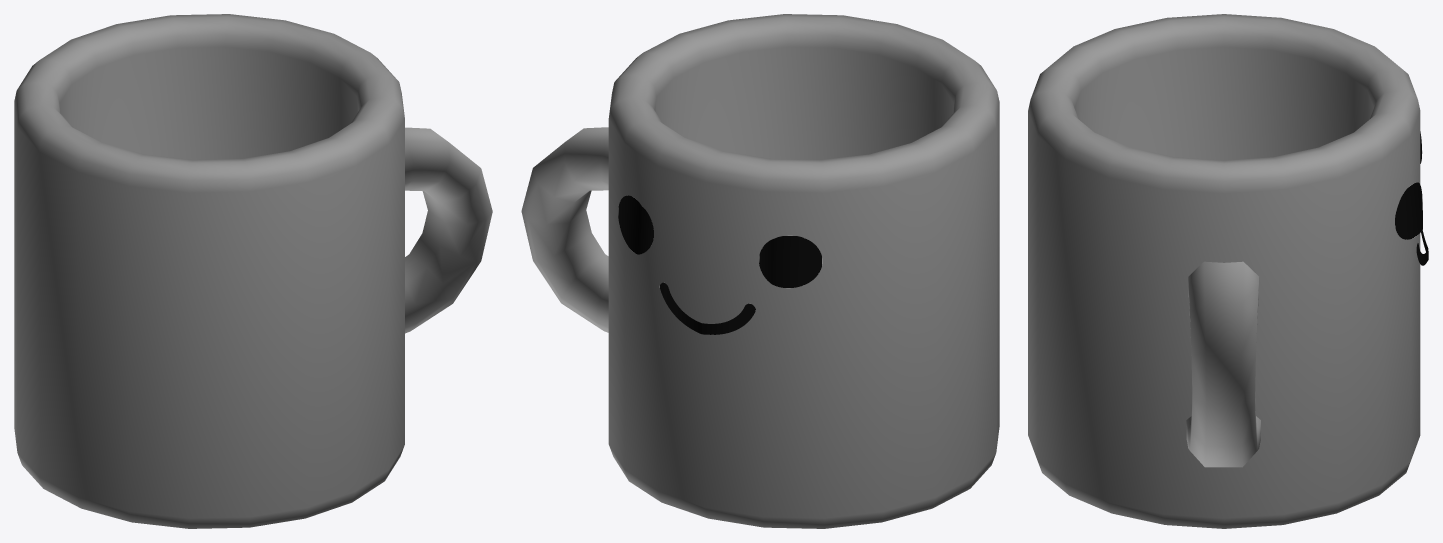
The model's file is cup_yellow_smile.fbx.
The picture shows the model from 3 angles, left to right: view 1: azimuth 30°, elevation 25°; view 2: azimuth 150°, elevation 25°; view 3: azimuth 270°, elevation 25°; orthographic projection.
Parts seen in each view (by area): view 1: cup_yellow; view 2: cup_yellow, smile; view 3: cup_yellow, smile.
Boxes of the visible parts, left/top/right/bottom form: cup_yellow: left=14, top=14, right=492, bottom=528; cup_yellow: left=521, top=14, right=999, bottom=528; smile: left=618, top=195, right=822, bottom=334; cup_yellow: left=1028, top=14, right=1420, bottom=528; smile: left=1395, top=131, right=1428, bottom=265.
Size of the model in its own units: 87.72 by 68.34 by 68.61.
Materials: 2 (1 with a texture image).
